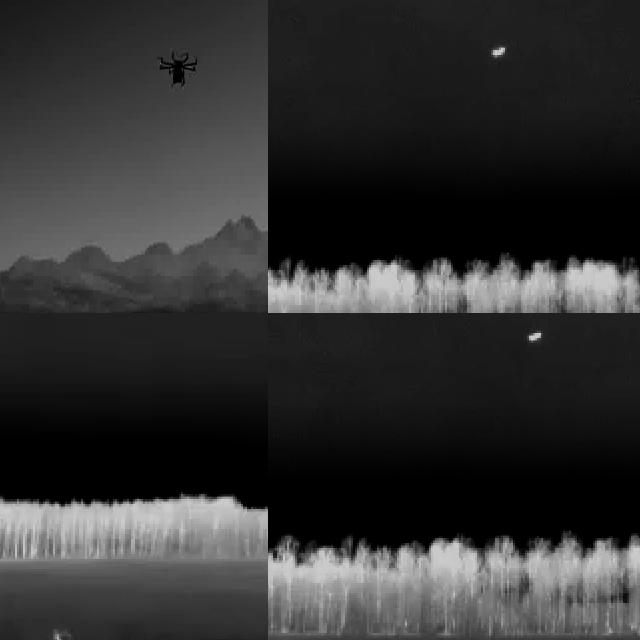1: (482, 40, 518, 70), (519, 324, 555, 354)
drone: (153, 44, 203, 98)
